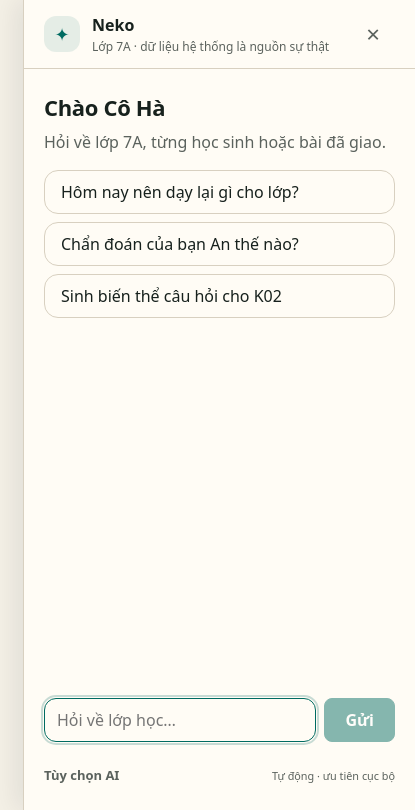
Test: NekoDock agent session › keeps the answer visible and discloses when local session persistence fails
Expected: the heading "Chào Cô Hà" is shown, [44, 92, 165, 122]
Click the button "Chẩn đoán của bạn An thế nào?".
click(220, 244)  # box [44, 222, 395, 266]
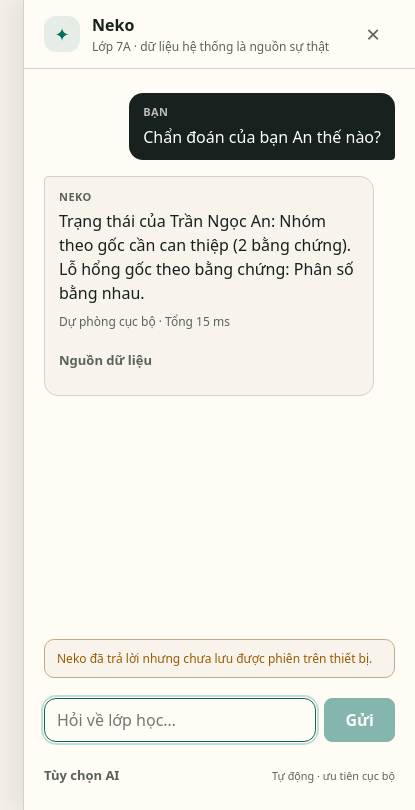
Expected: the text "Phân số bằng nhau" is shown, [59, 210, 358, 304]
Expected: the message shows "chưa lưu được phiên", [57, 650, 372, 667]
